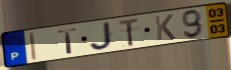9: (181, 8, 205, 39)
I: (28, 31, 39, 62)
J: (89, 20, 116, 52)
K: (153, 13, 178, 42)
T: (118, 17, 141, 48), (56, 26, 80, 55)
